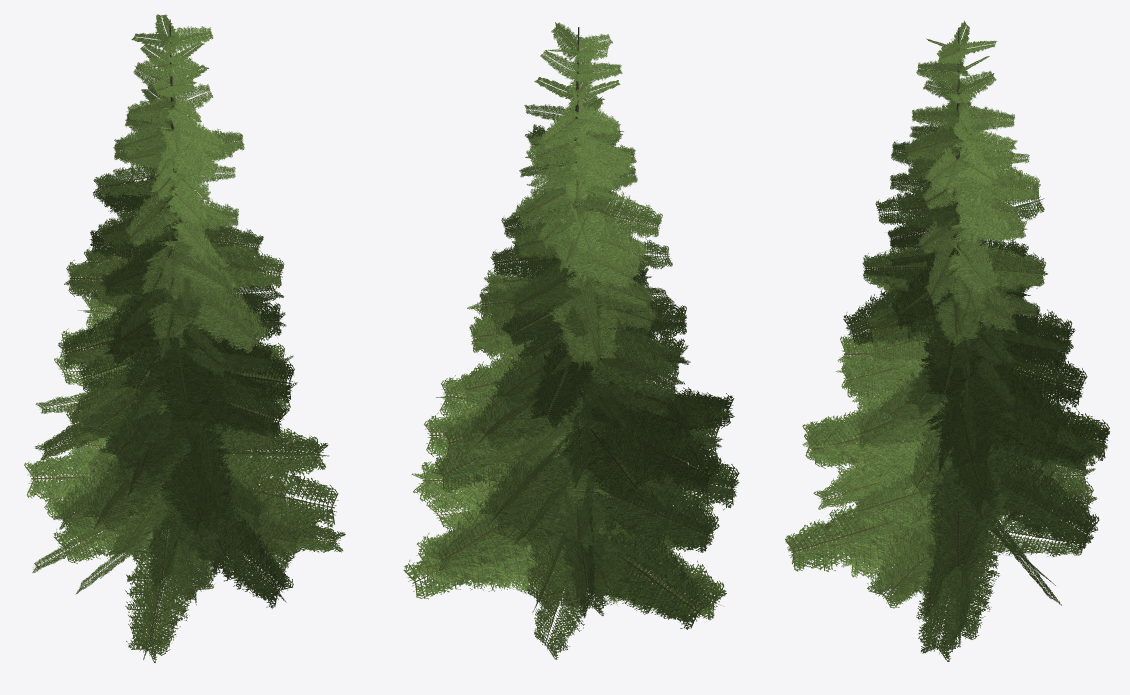
The model's file is tree_spruce_v0_l1.glb.
3 renders of one model, left to right at view 1: azimuth 30°, elevation 25°; view 2: azimuth 150°, elevation 25°; view 3: azimuth 270°, elevation 25°, orthographic. The views are drawn at different scales.
Visible parts, largest first — view 1: tree_spruce_v0_l1; view 2: tree_spruce_v0_l1; view 3: tree_spruce_v0_l1.
Boxes of the visible parts, x1,y1,x2,y2 form: tree_spruce_v0_l1: (24,14,345,662); tree_spruce_v0_l1: (403,22,739,659); tree_spruce_v0_l1: (785,20,1109,661).
Size of the model in its own units: 7.5 by 14.11 by 7.21.
2 materials, 2 textured.
